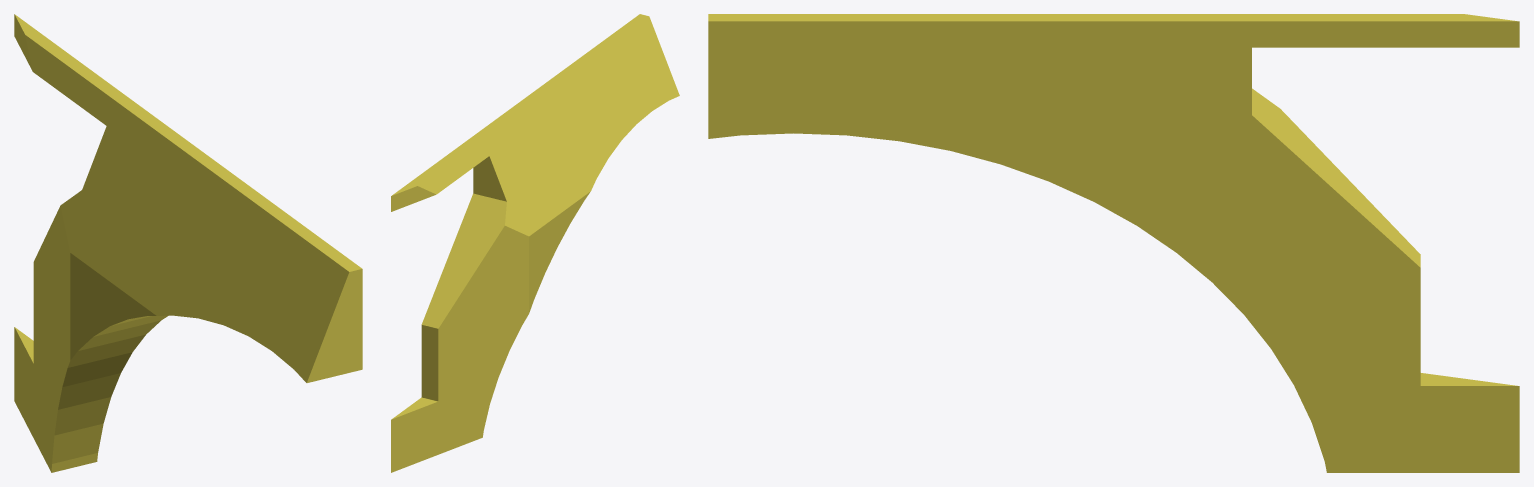
The model's file is 6x6 ford raptor.glb.
3 renders of one model, left to right at view 1: azimuth 30°, elevation 25°; view 2: azimuth 150°, elevation 25°; view 3: azimuth 270°, elevation 25°, orthographic. The views are drawn at different scales.
Visible parts, largest first — view 1: Mesh_Mesh_head_geo.001_lambert2SG.001; view 2: Mesh_Mesh_head_geo.001_lambert2SG.001; view 3: Mesh_Mesh_head_geo.001_lambert2SG.001.
Part boxes in pixels (box(x1,y1,x2,y2)): Mesh_Mesh_head_geo.001_lambert2SG.001: box(14, 14, 362, 472); Mesh_Mesh_head_geo.001_lambert2SG.001: box(391, 14, 679, 472); Mesh_Mesh_head_geo.001_lambert2SG.001: box(708, 14, 1519, 472).
Size of the model in its own units: 2.27 by 12.23 by 19.92.
